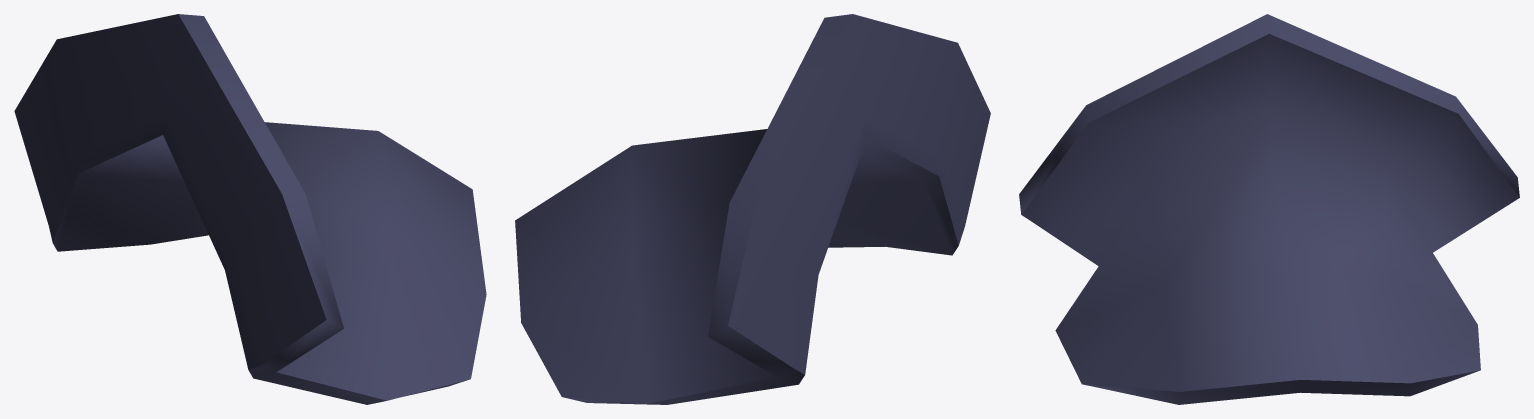
File: Shoulder_1_L.fbx
3 views of the same model, side by side, from view 1: azimuth 30°, elevation 25°; view 2: azimuth 150°, elevation 25°; view 3: azimuth 270°, elevation 25° (orthographic). The views are drawn at different scales.
Parts seen in each view (by area): view 1: Shoulder_1_L; view 2: Shoulder_1_L; view 3: Shoulder_1_L.
Boxes of the visible parts, x1,y1,x2,y2 form: Shoulder_1_L: (14,14,486,404); Shoulder_1_L: (515,14,990,404); Shoulder_1_L: (1019,14,1519,404).
Bounding box in the file's own units: 20.09 × 18.69 × 28.28.
